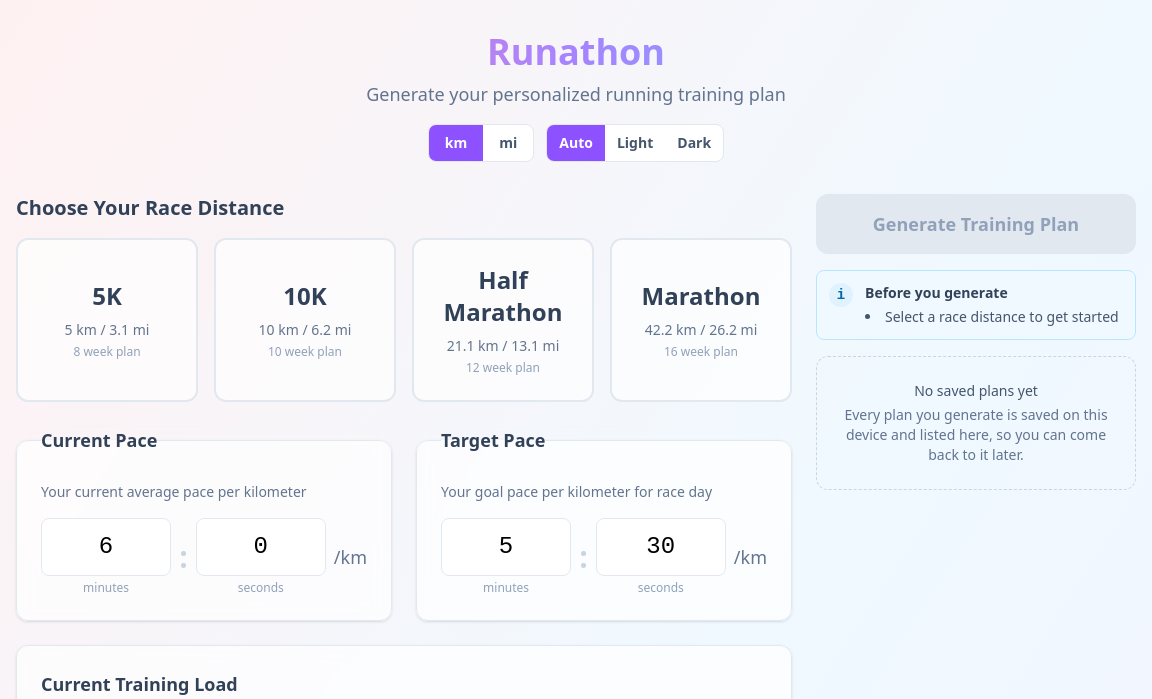
Test: App › lists saved plans on the form screen and reopens them
The image size is (1152, 699).
Click the button with aria-label "5K, 5 kilometers".
click(107, 320)  # box [16,238,198,402]
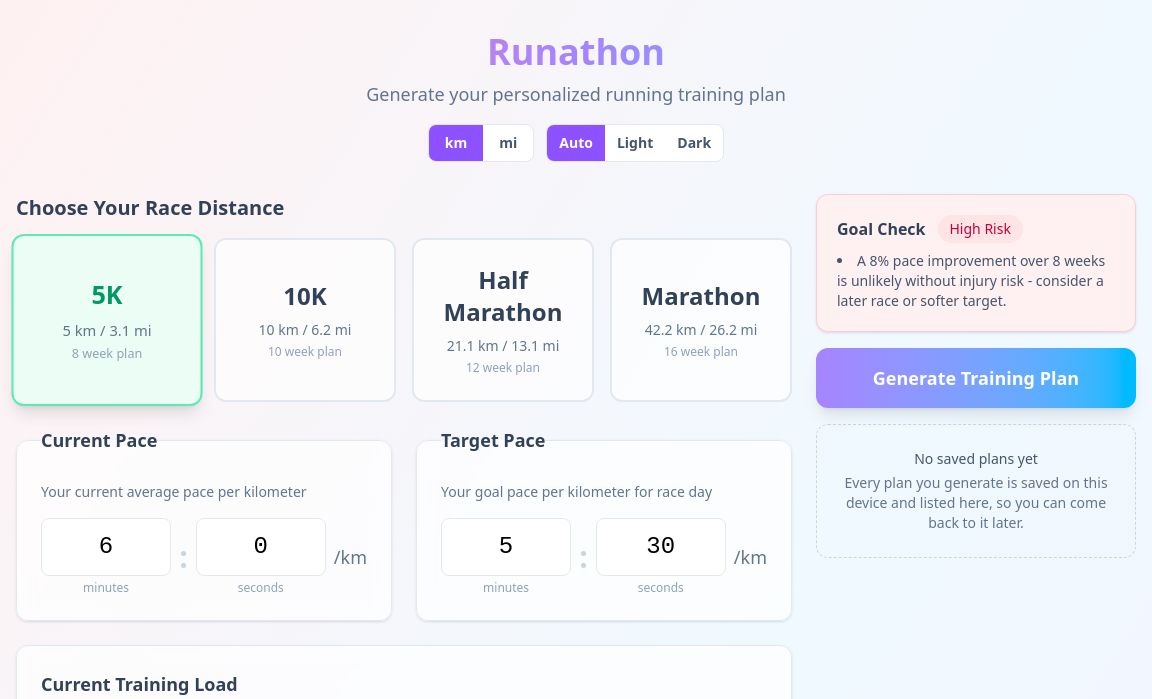
Click the button with aria-label "generate your personalized training plan".
click(976, 378)  # box [816,348,1136,408]
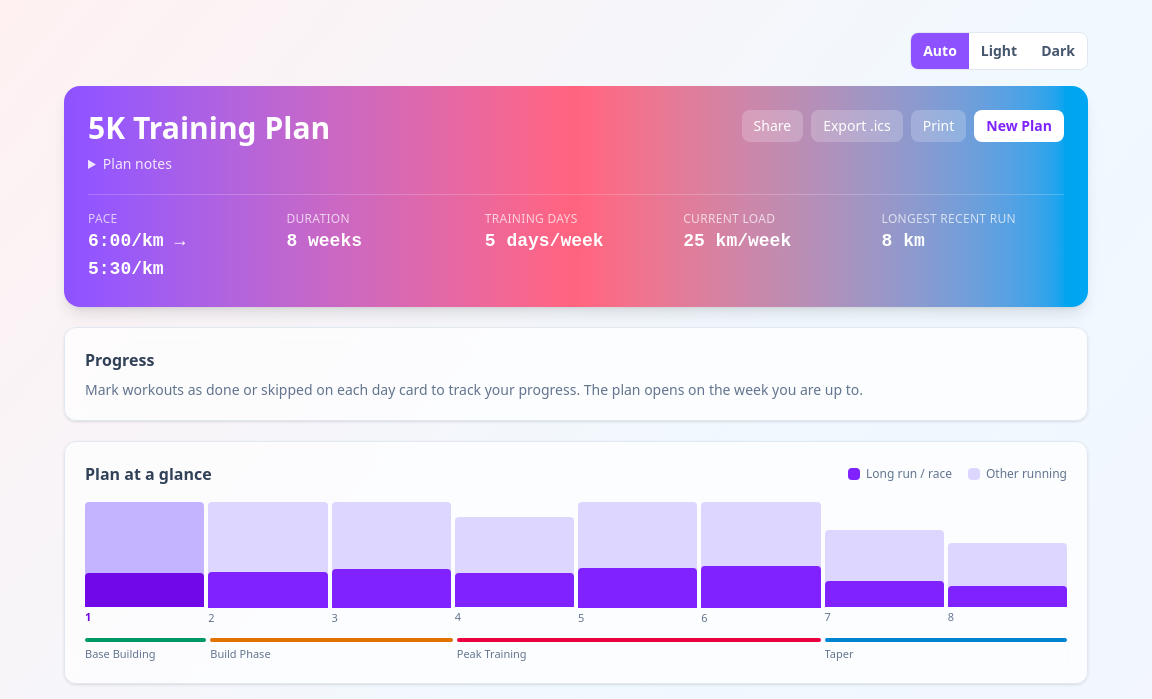
Click the button with aria-label "create a new training plan".
click(1019, 126)  # box [974,110,1064,142]
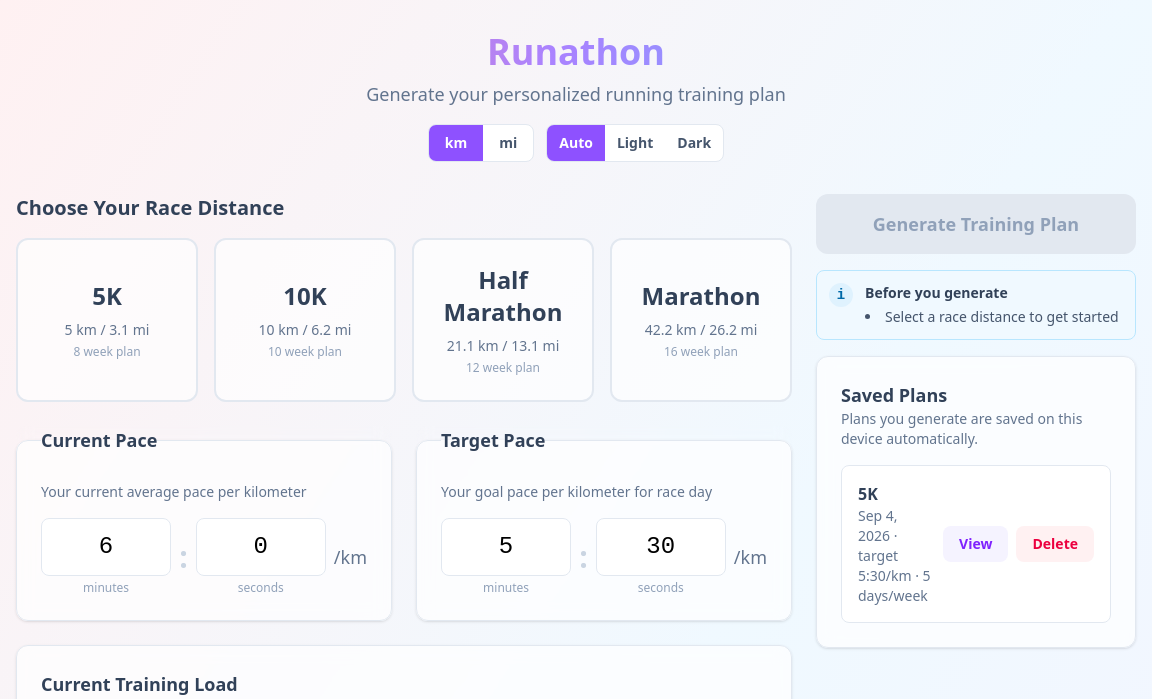
Expected: the heading "Saved Plans" is shown, [841,383,947,407]
Click the button with aria-label "view 5k plan".
click(976, 544)  # box [943,526,1008,562]
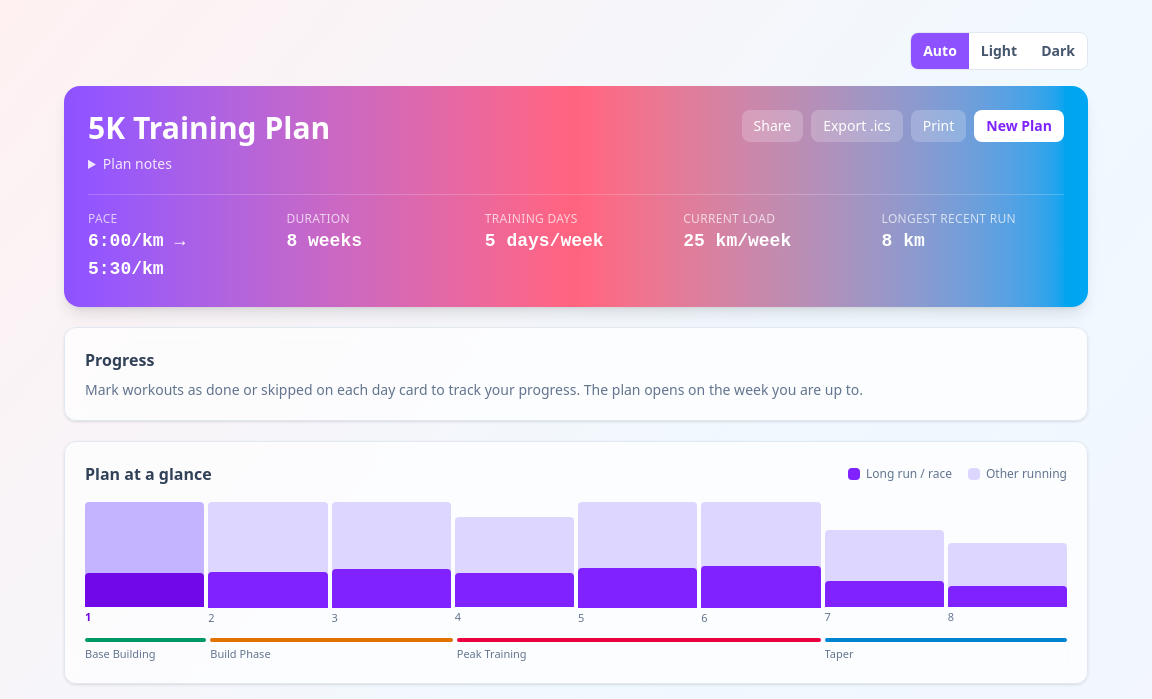
Expected: the heading "5K Training Plan" is shown, [88,110,330,146]
